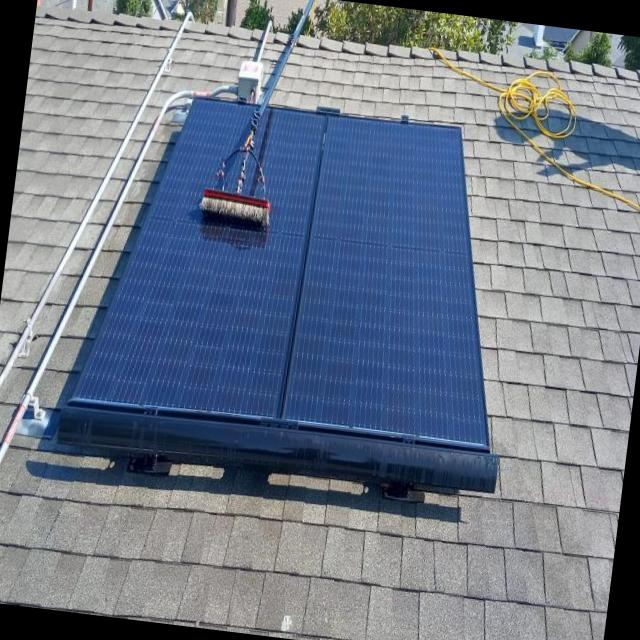no faulty: (279, 113, 484, 451)
